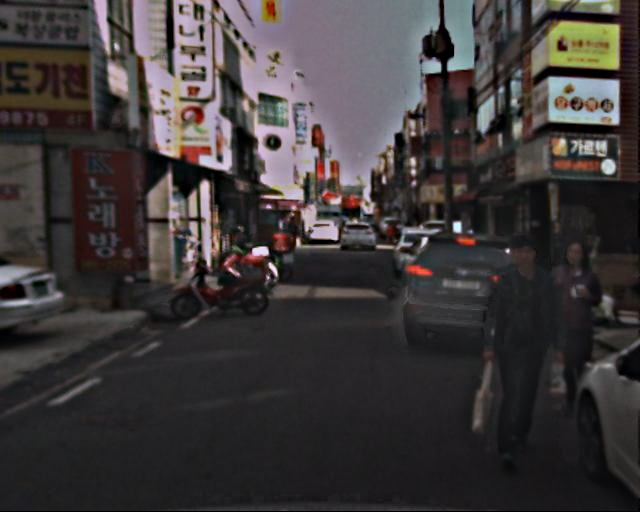person: (464, 230, 566, 469), (539, 239, 614, 416), (284, 216, 300, 254), (386, 223, 400, 245)
